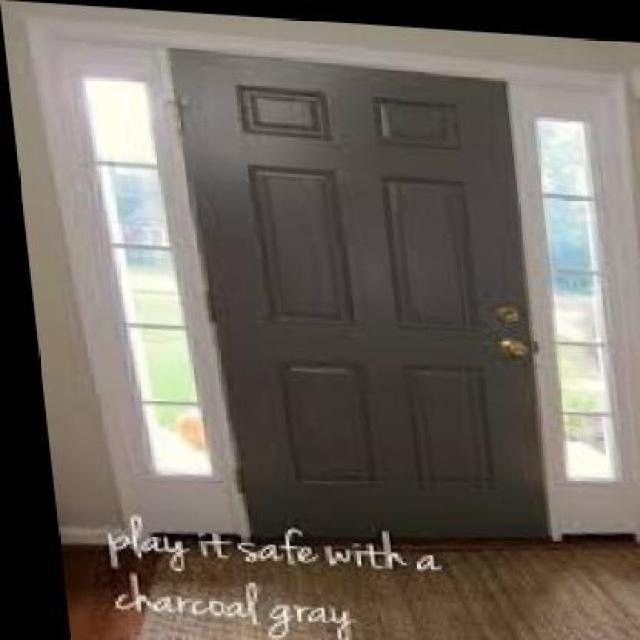door: (172, 22, 547, 571)
